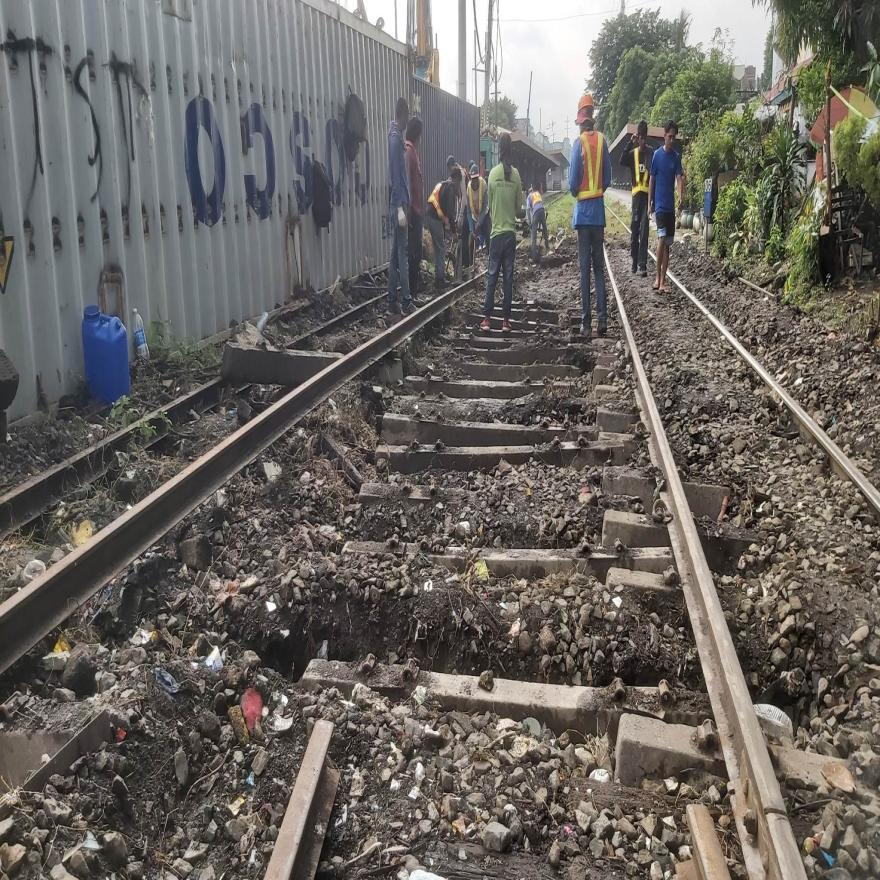railway-gap: (752, 773, 800, 854)
